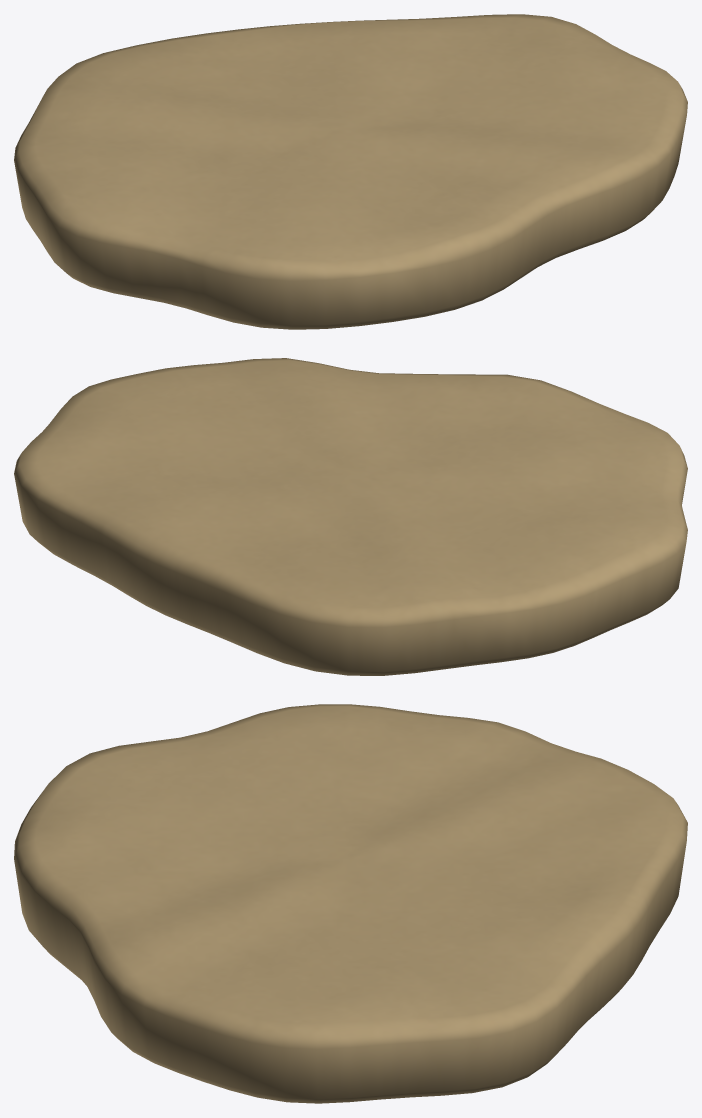
File: SteppingStone_03.fbx
3 views of the same model, one above another, from view 1: azimuth 30°, elevation 25°; view 2: azimuth 150°, elevation 25°; view 3: azimuth 270°, elevation 25° (orthographic). The views are drawn at different scales.
Visible parts, largest first — view 1: SteppingStone_03; view 2: SteppingStone_03; view 3: SteppingStone_03.
Part boxes in pixels (<box>): SteppingStone_03: <box>14,14,687,329</box>; SteppingStone_03: <box>14,358,687,675</box>; SteppingStone_03: <box>14,704,687,1103</box>.
Size of the model in its own units: 0.45 by 0.0502 by 0.3782.
1 material, 1 textured.
